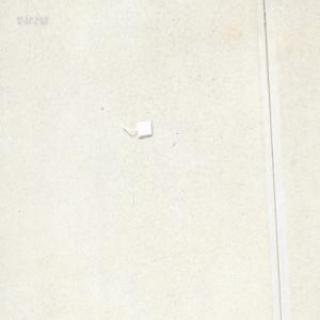LuggageTagtrack_idkeyframe: (119, 119, 151, 138)
